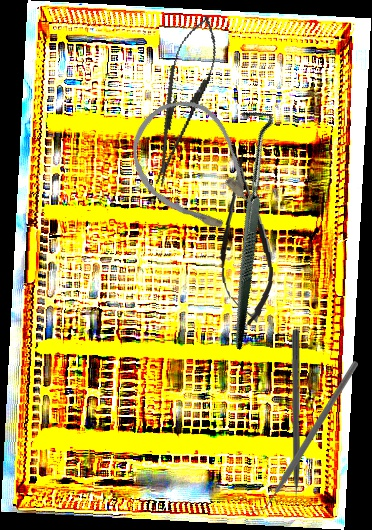Cannula: (112, 83, 278, 256)
Chopper: (249, 361, 358, 513)
Hook Surgical: (131, 101, 359, 351)
Micro Scissor: (212, 149, 277, 329)
Needle Holder: (138, 10, 227, 191)
Pusher: (290, 329, 300, 518)
